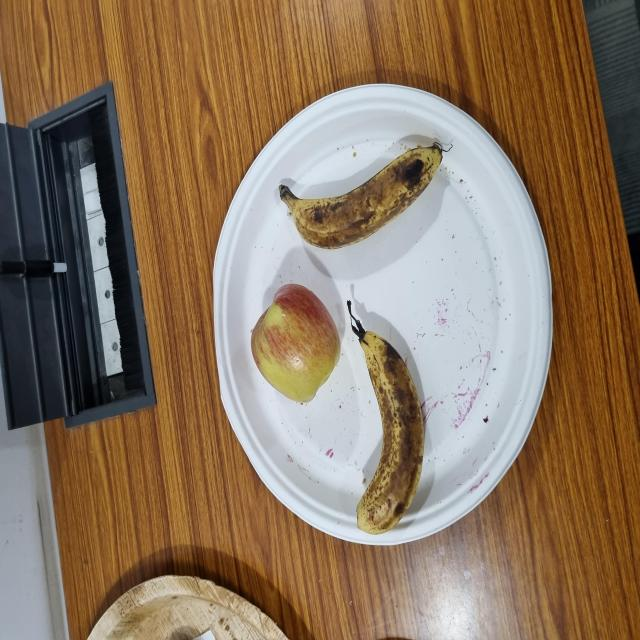apple: (176, 334, 268, 458)
banana: (292, 375, 375, 594), (79, 472, 239, 569)
